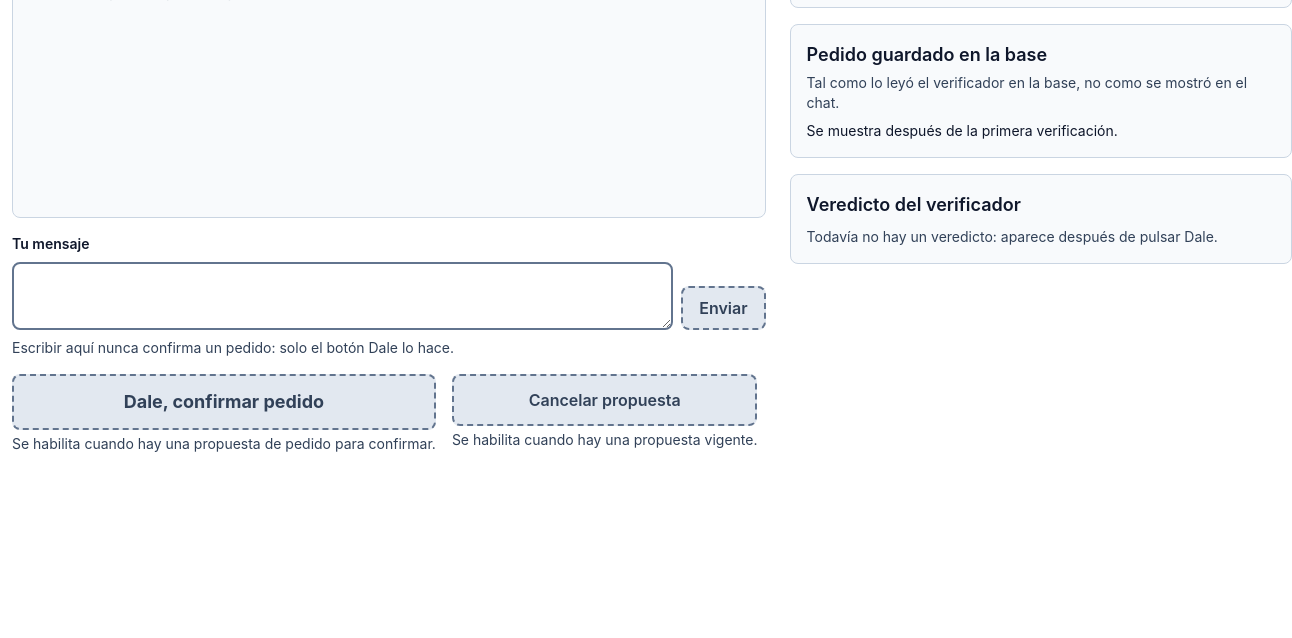
Test: the Dale button (S15.4, B66) › shows the stale-page notice and the summary the host now holds as pending (S15.5)
Type "dos harinas" into the text box labelled "Tu mensaje".
click(343, 296); type("dos harinas")  # box [12, 262, 673, 330]
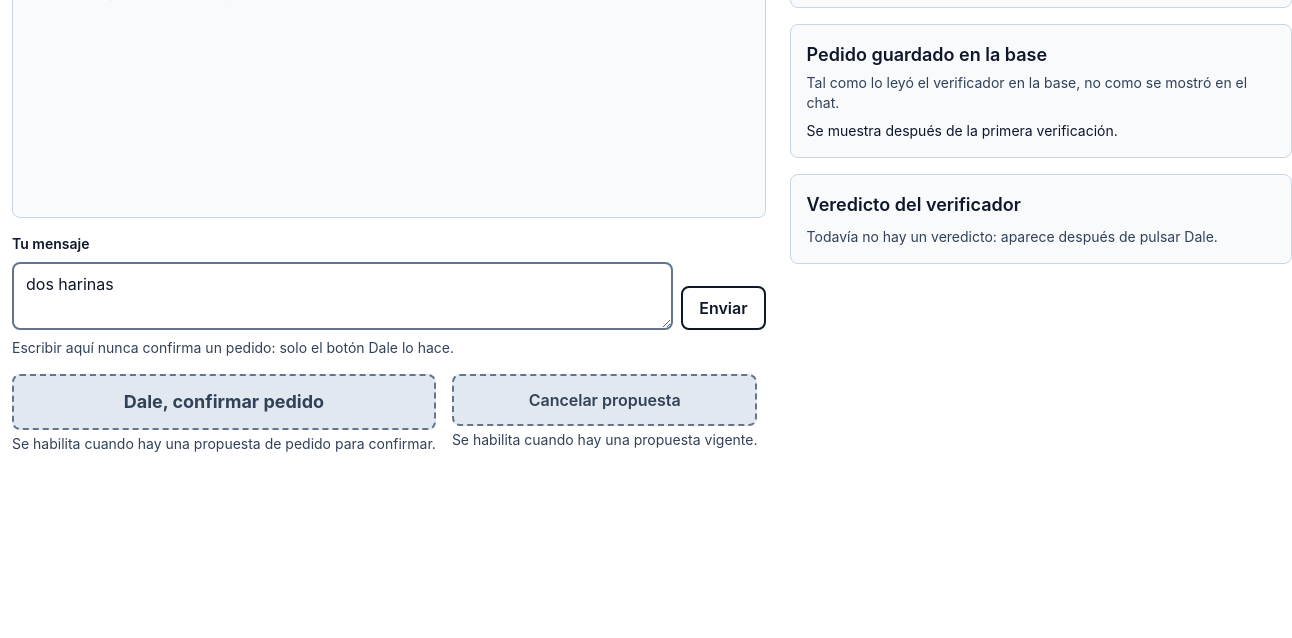
Click the button "Enviar".
click(723, 308)  # box [681, 286, 766, 330]
(page scrolled)
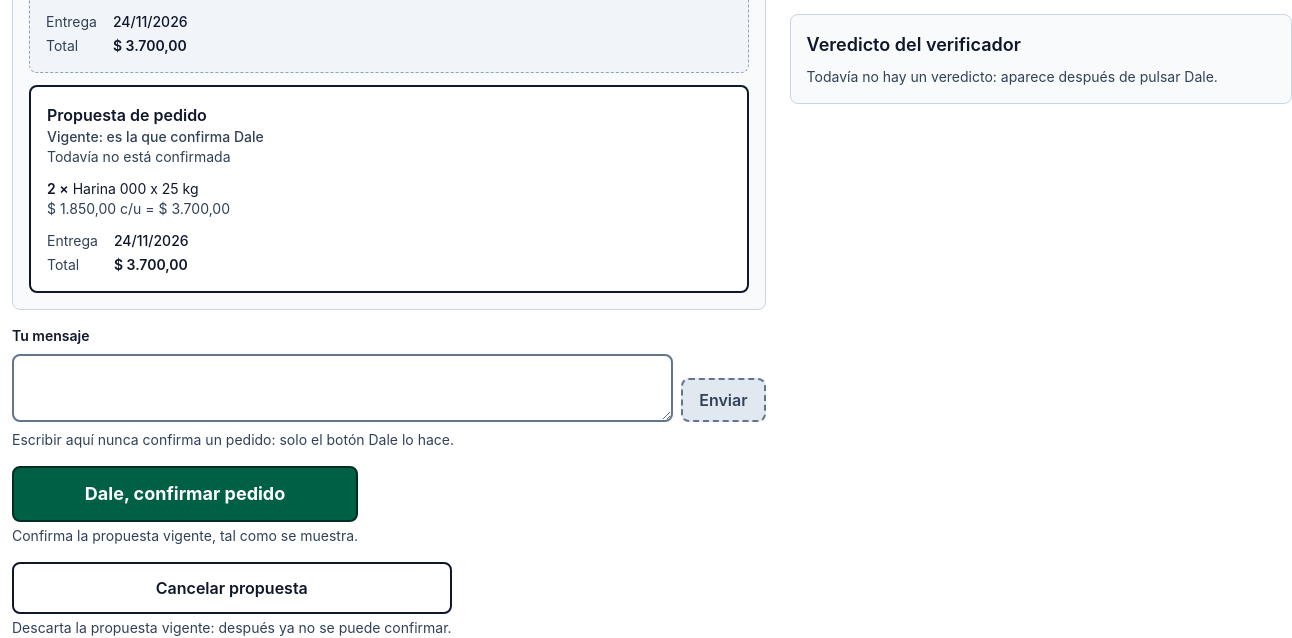
Click the button "Dale, confirmar pedido".
click(185, 494)  # box [12, 466, 358, 522]
(page scrolled)
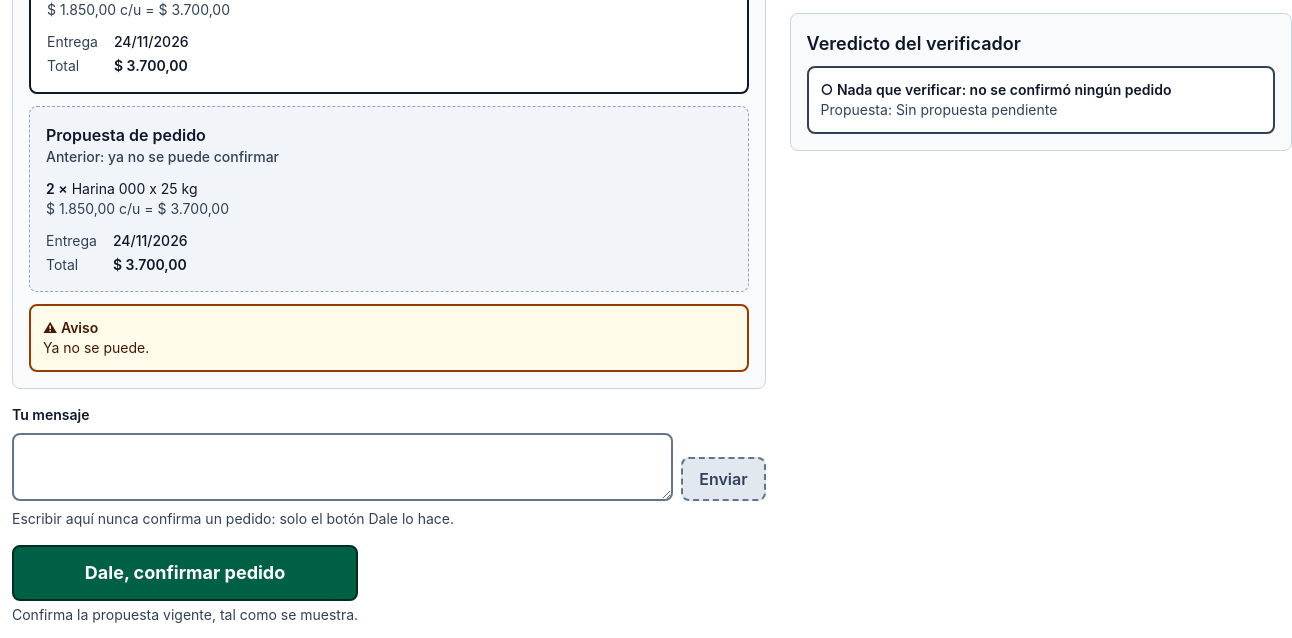
Expected: the button "Dale, confirmar pedido" is enabled, [12, 545, 358, 601]
Expected: the text "Ya no se puede." is shown once, [43, 339, 149, 356]
